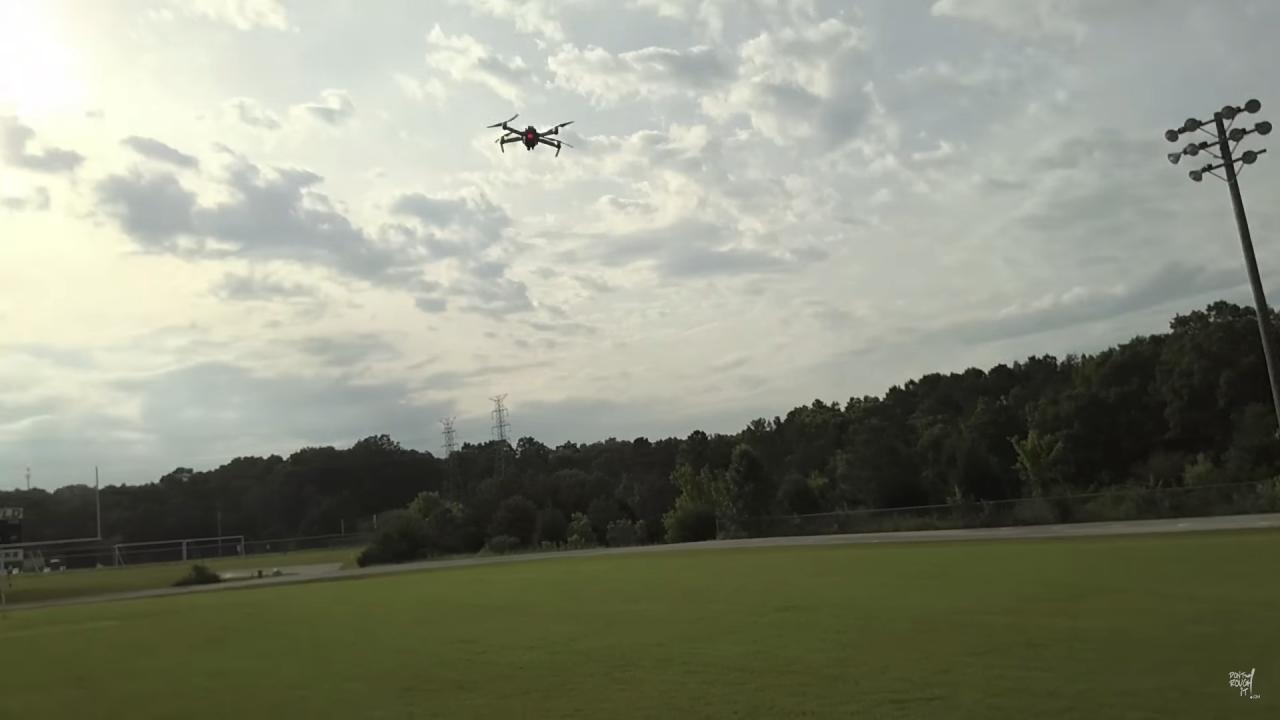Drone: (476, 108, 583, 167)
